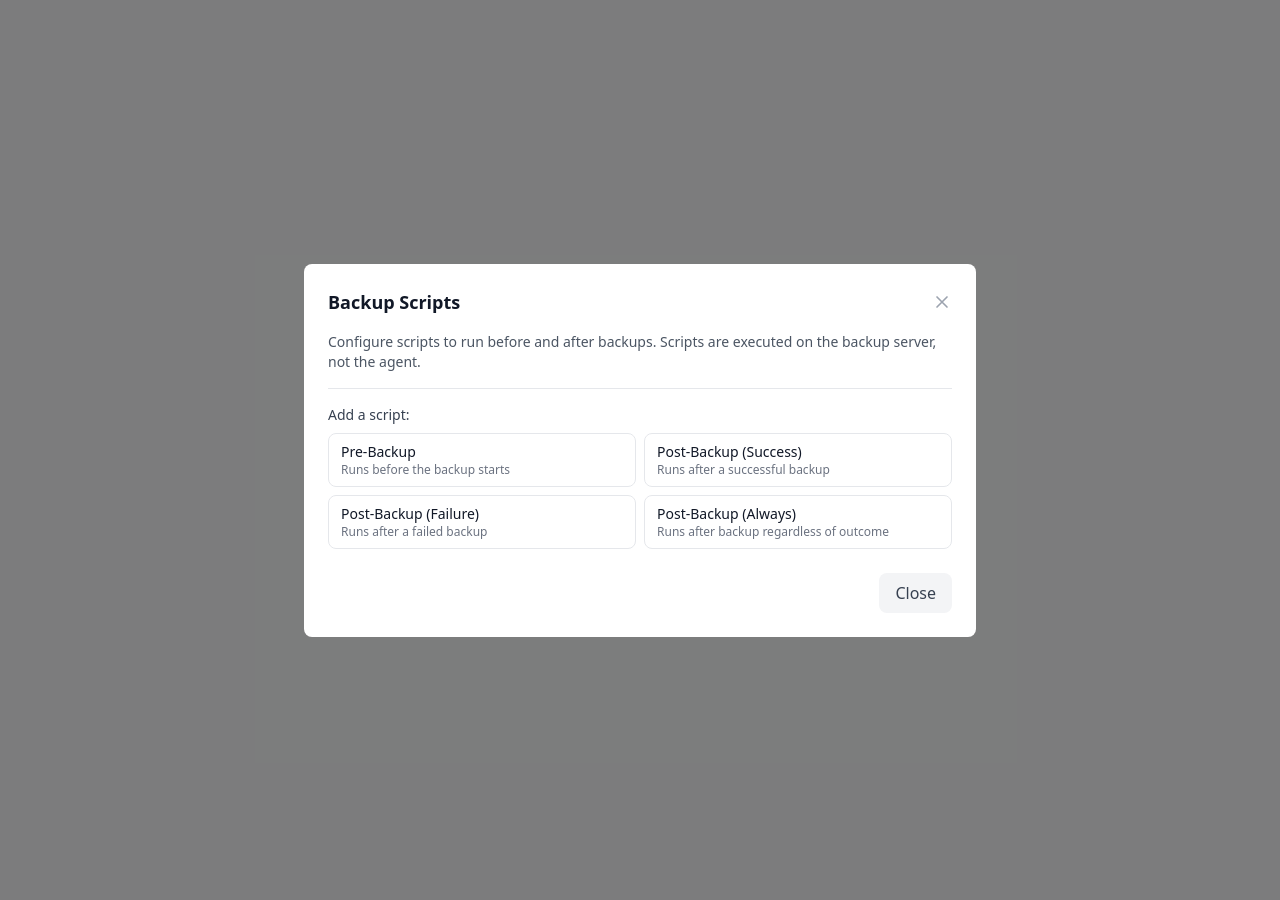
Test: BackupScriptsEditor › cancels script form
Click the text "Pre-Backup". click: [378, 451]
box: [341,442,416,460]
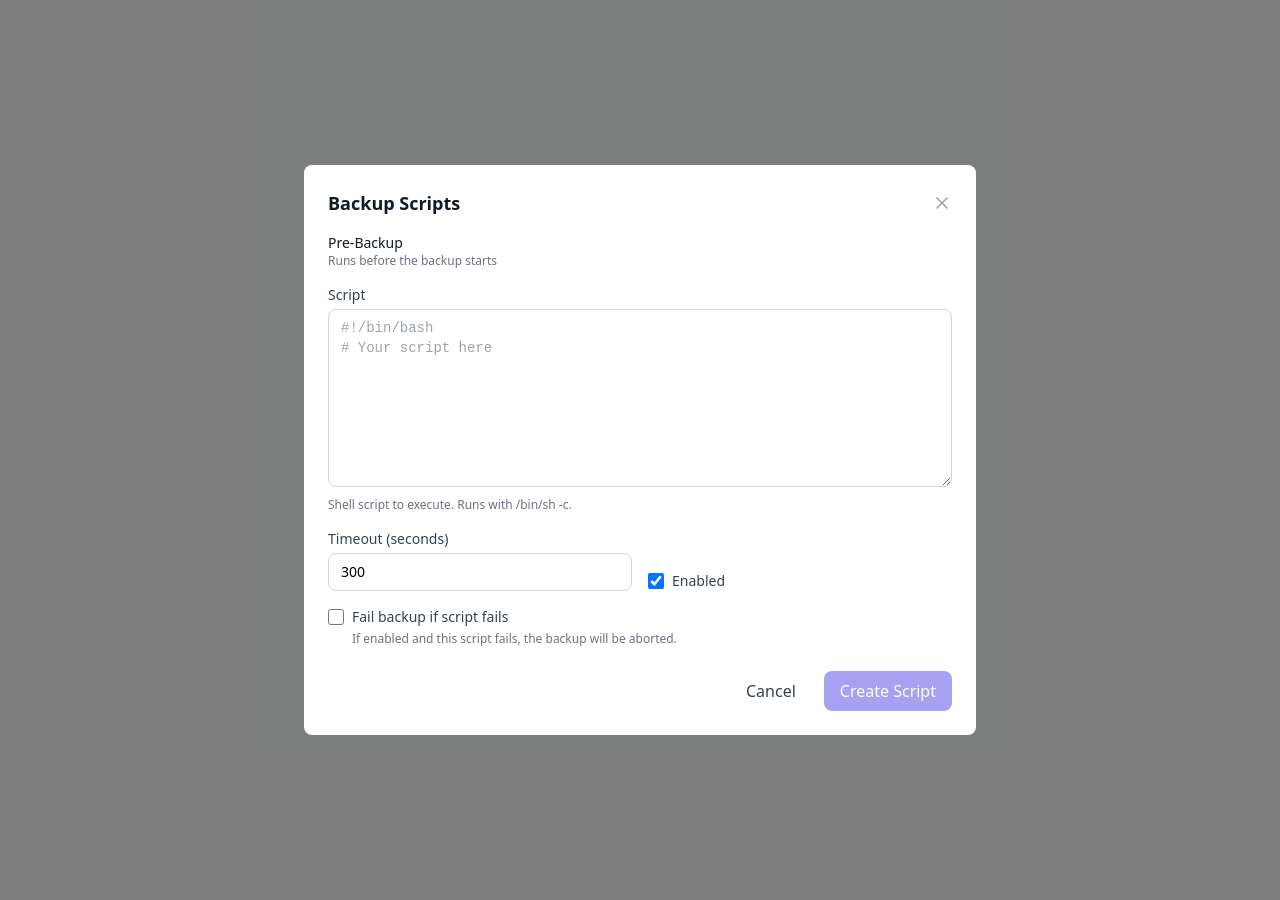
Check: the button "Create Script" is shown, box [824,671,952,711]
Click the button "Cancel". click: [771, 691]
box: [730,671,812,711]
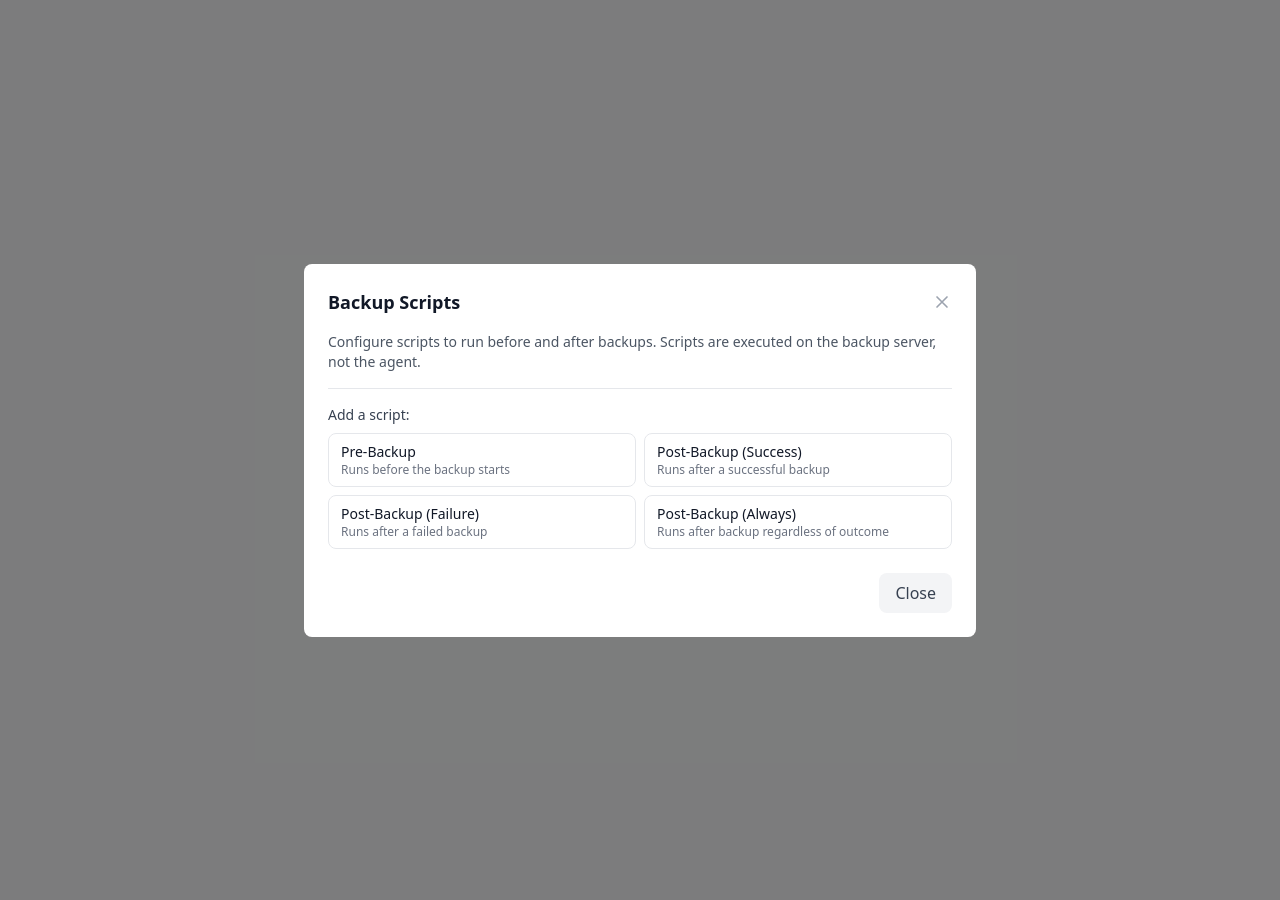
Check: the button "Create Script" is gone
